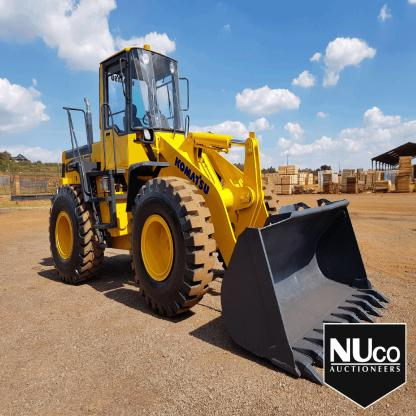bull_dozer/loader/grader: (45, 40, 388, 390)
